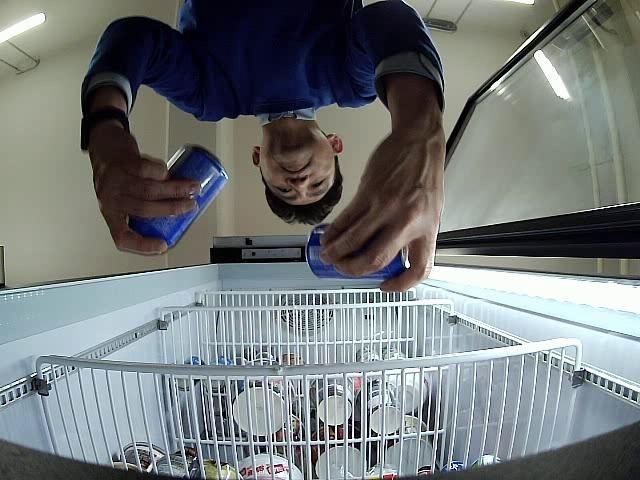13_pocariSweat: (127, 145, 227, 251), (305, 222, 408, 278)
